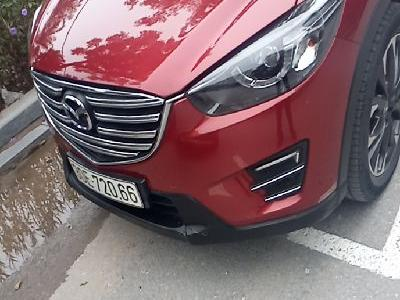car: (67, 155, 146, 209)
